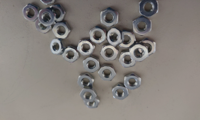nut: (100, 8, 119, 28), (22, 3, 40, 23), (134, 17, 152, 36), (52, 21, 71, 39), (139, 0, 159, 17), (99, 64, 117, 82), (123, 73, 142, 90), (107, 28, 124, 46), (89, 28, 107, 45), (101, 45, 119, 62), (119, 51, 137, 68), (82, 56, 100, 73), (77, 40, 95, 57), (37, 8, 54, 26), (130, 46, 149, 62), (119, 32, 136, 49), (139, 39, 156, 56), (62, 46, 79, 63), (35, 19, 52, 36), (112, 84, 129, 100), (77, 74, 95, 89), (79, 88, 97, 103), (50, 5, 66, 21), (50, 40, 65, 56), (84, 99, 101, 109), (39, 1, 57, 6)
